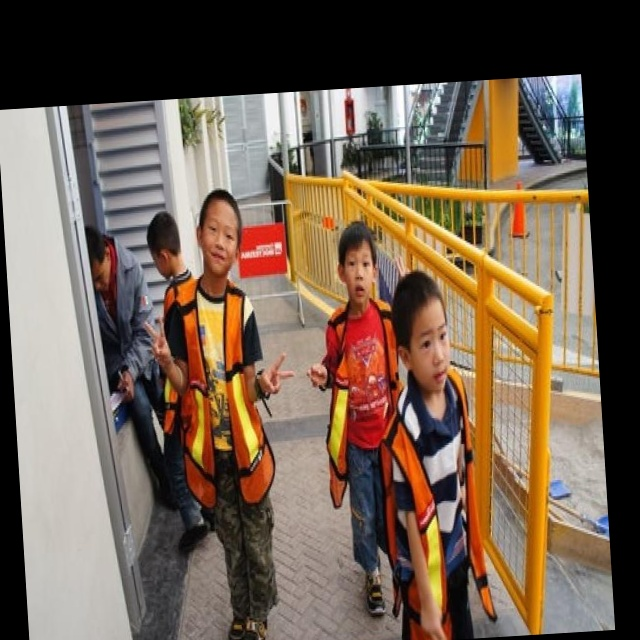Con_Casco: (338, 221, 380, 305)
Con_Chaleco: (386, 365, 486, 616), (172, 276, 264, 504)
